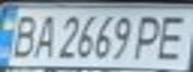2: (54, 11, 81, 60)
6: (93, 11, 118, 61), (75, 11, 100, 60)
9: (109, 11, 139, 61)
A: (30, 10, 60, 60)
B: (3, 11, 42, 60)
E: (148, 10, 193, 61)
P: (130, 11, 172, 61)
